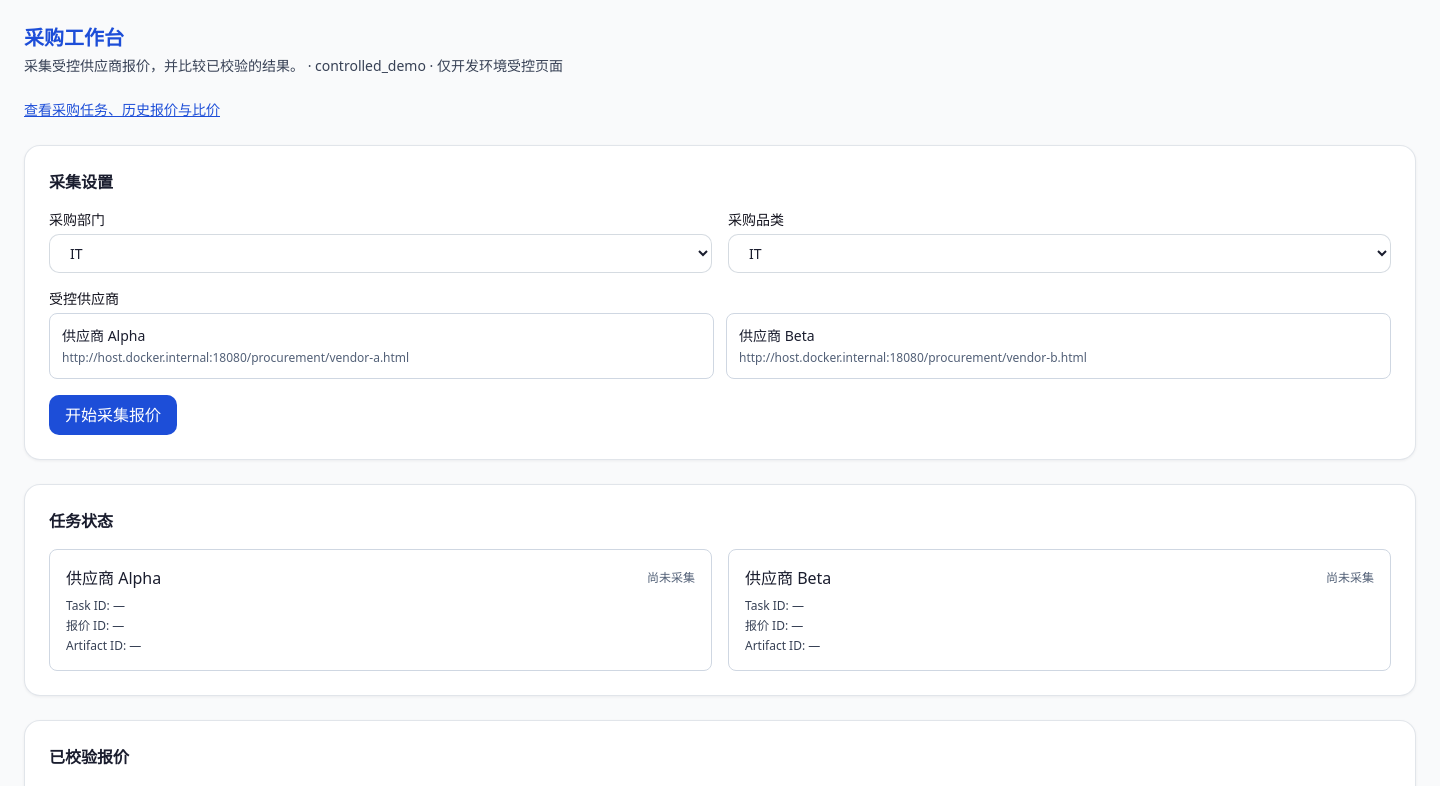
Test: ProcurementWorkbenchPage › handles approval updates without automatic continuation
Click the button "开始采集报价". click: {"x": 113, "y": 415}
box: [49,395,177,435]
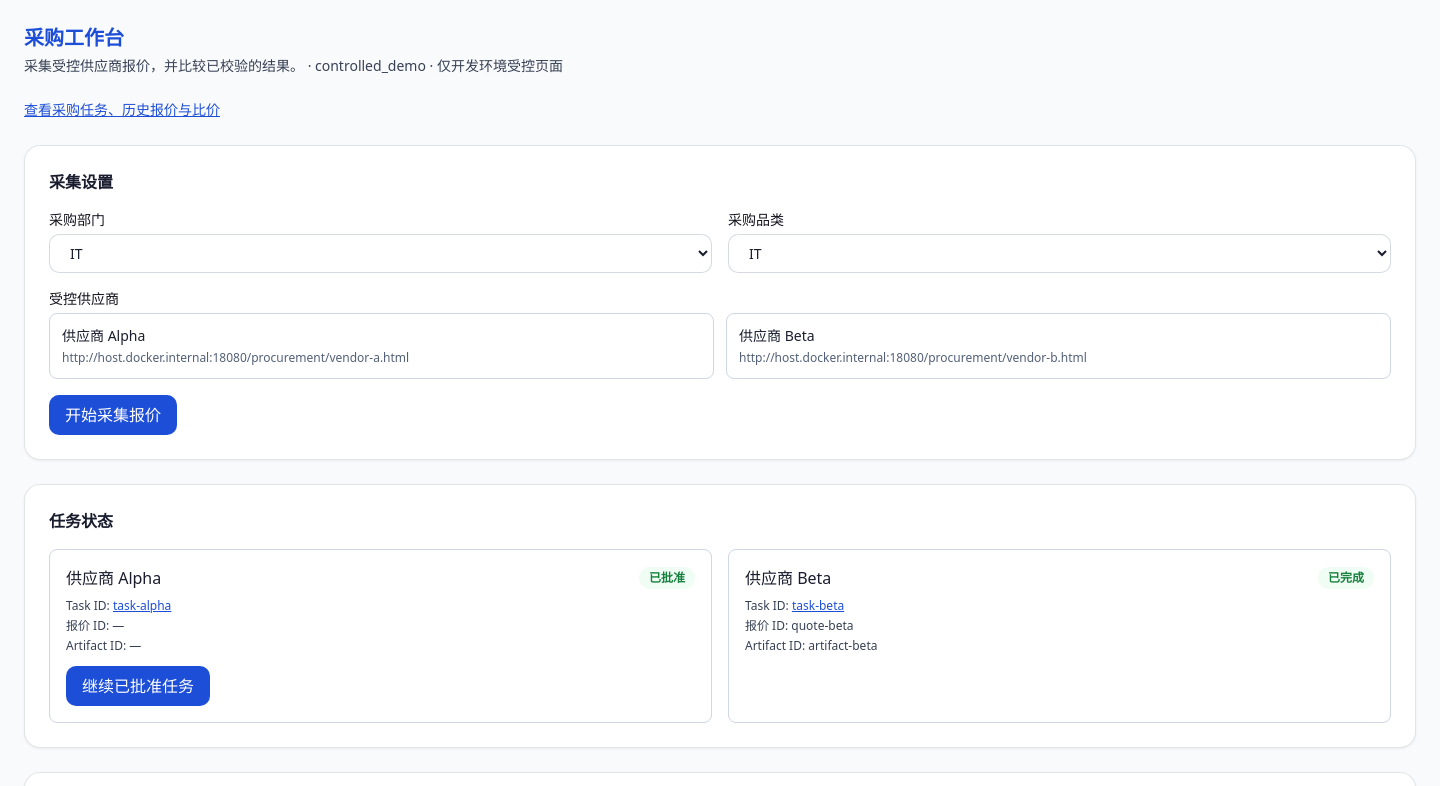
Result: the link "task-beta" is shown at [792,597,844,614]
Click the button "继续已批准任务". click: {"x": 138, "y": 686}
box: [66,666,210,706]
(page scrolled)
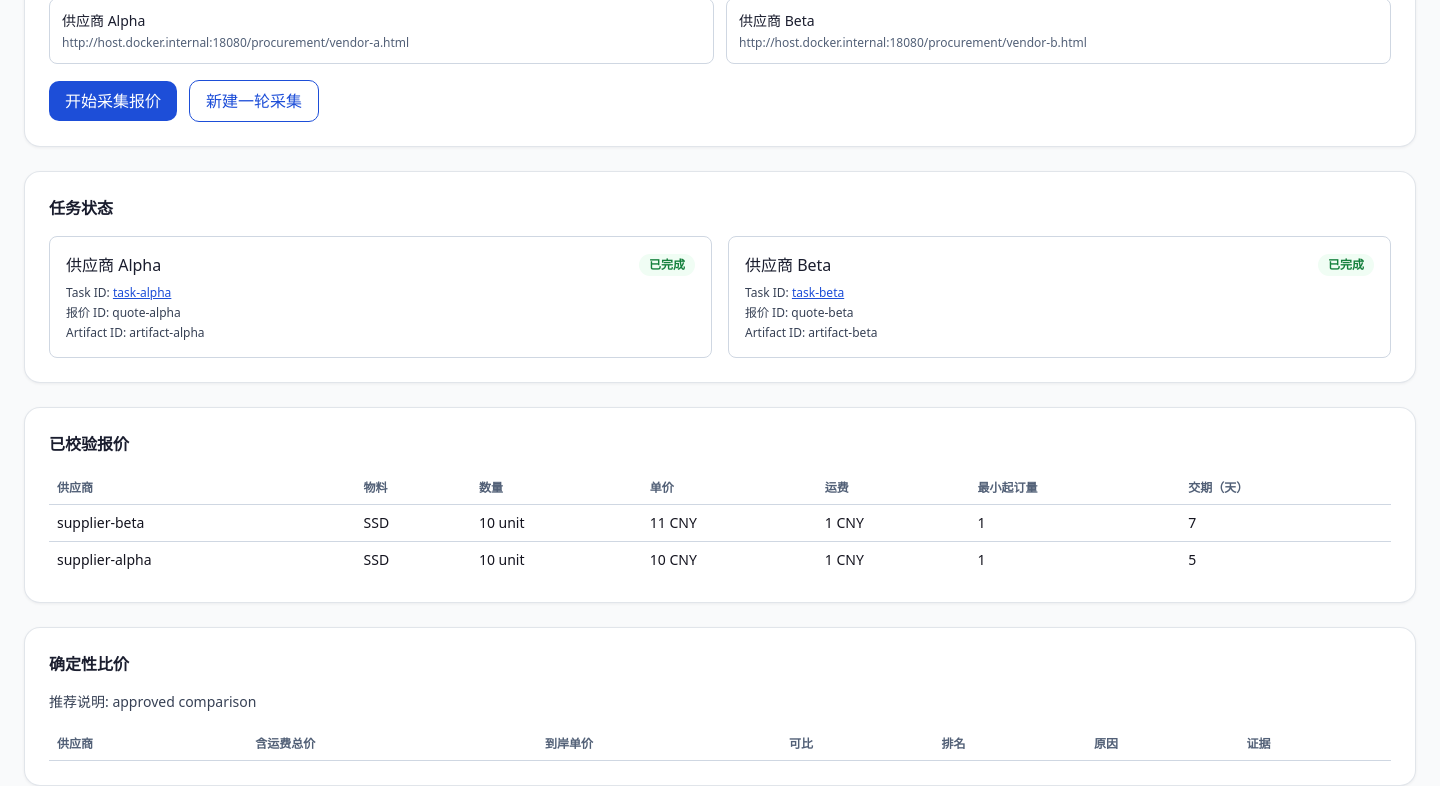
Result: the text "推荐说明: approved comparison" is shown at [49,692,256,711]
